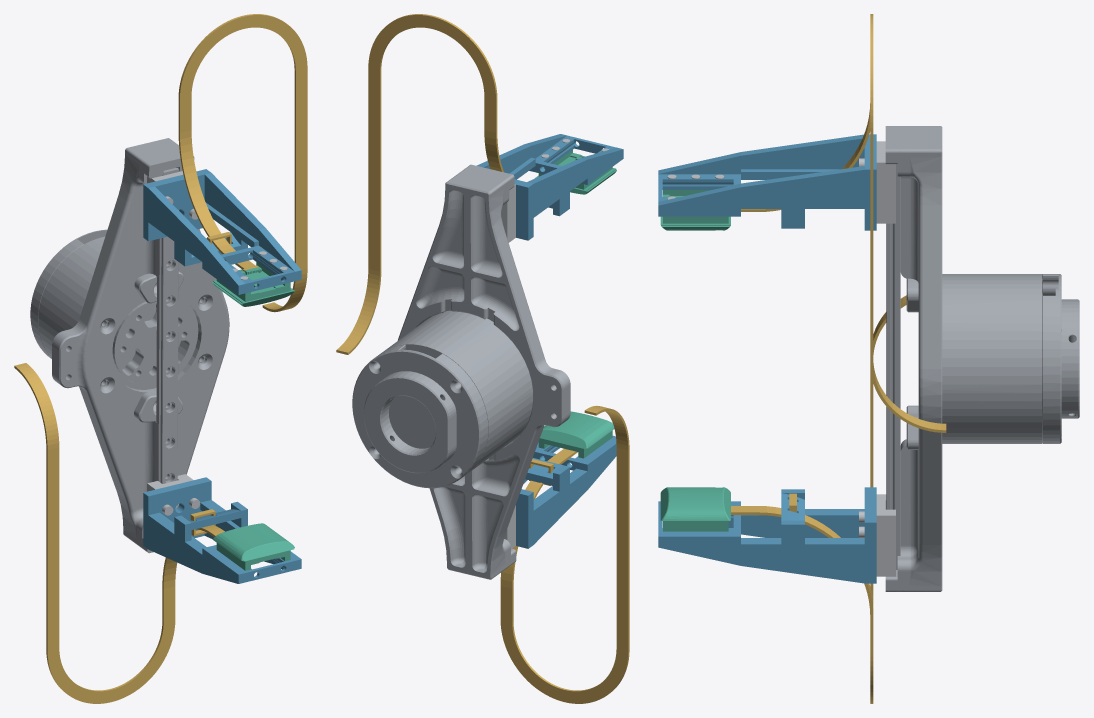
File: assembly_open100.glb
The picture shows the model from 3 angles, left to right: view 1: azimuth 30°, elevation 25°; view 2: azimuth 150°, elevation 25°; view 3: azimuth 270°, elevation 25°; orthographic projection. The views are drawn at different scales.
Parts seen in each view (by area): view 1: original_actuator_and_transmission, replacement_finger_2, replacement_finger_1, service_loop_envelope_1, service_loop_envelope_2, M2324_1, moving_harness_envelope_2, M2324_2, moving_harness_envelope_1; view 2: original_actuator_and_transmission, service_loop_envelope_2, service_loop_envelope_1, replacement_finger_2, replacement_finger_1, M2324_1, moving_harness_envelope_1, M2324_2, retained_carrier_2, moving_harness_envelope_2; view 3: original_actuator_and_transmission, replacement_finger_2, replacement_finger_1, M2324_1, service_loop_envelope_2, retained_carrier_1, retained_carrier_2, M2324_2, service_loop_envelope_1, moving_harness_envelope_1.
Boxes of the visible parts, left/top/right/bottom form: original_actuator_and_transmission: left=30, top=138, right=229, bottom=553; replacement_finger_2: left=143, top=169, right=301, bottom=294; replacement_finger_1: left=143, top=477, right=301, bottom=583; service_loop_envelope_1: left=14, top=363, right=175, bottom=703; service_loop_envelope_2: left=178, top=14, right=307, bottom=312; M2324_1: left=212, top=523, right=294, bottom=570; moving_harness_envelope_2: left=178, top=130, right=255, bottom=269; M2324_2: left=212, top=262, right=294, bottom=306; moving_harness_envelope_1: left=162, top=525, right=224, bottom=588; original_actuator_and_transmission: left=352, top=164, right=570, bottom=579; service_loop_envelope_2: left=336, top=14, right=497, bottom=354; service_loop_envelope_1: left=500, top=405, right=629, bottom=703; replacement_finger_2: left=476, top=134, right=623, bottom=240; replacement_finger_1: left=516, top=435, right=616, bottom=548; M2324_1: left=538, top=411, right=614, bottom=458; moving_harness_envelope_1: left=500, top=448, right=577, bottom=588; M2324_2: left=534, top=150, right=616, bottom=194; retained_carrier_2: left=501, top=184, right=515, bottom=242; moving_harness_envelope_2: left=484, top=130, right=503, bottom=172; original_actuator_and_transmission: left=885, top=126, right=1079, bottom=591; replacement_finger_2: left=658, top=134, right=876, bottom=230; replacement_finger_1: left=658, top=487, right=876, bottom=583; M2324_1: left=660, top=487, right=730, bottom=531; service_loop_envelope_2: left=870, top=14, right=946, bottom=432; retained_carrier_1: left=876, top=494, right=895, bottom=576; retained_carrier_2: left=876, top=141, right=895, bottom=223; M2324_2: left=660, top=190, right=730, bottom=230; service_loop_envelope_1: left=870, top=295, right=906, bottom=703; moving_harness_envelope_1: left=731, top=506, right=873, bottom=616.
Size of the model in its own units: 0.1152 by 0.2766 by 0.1412.
